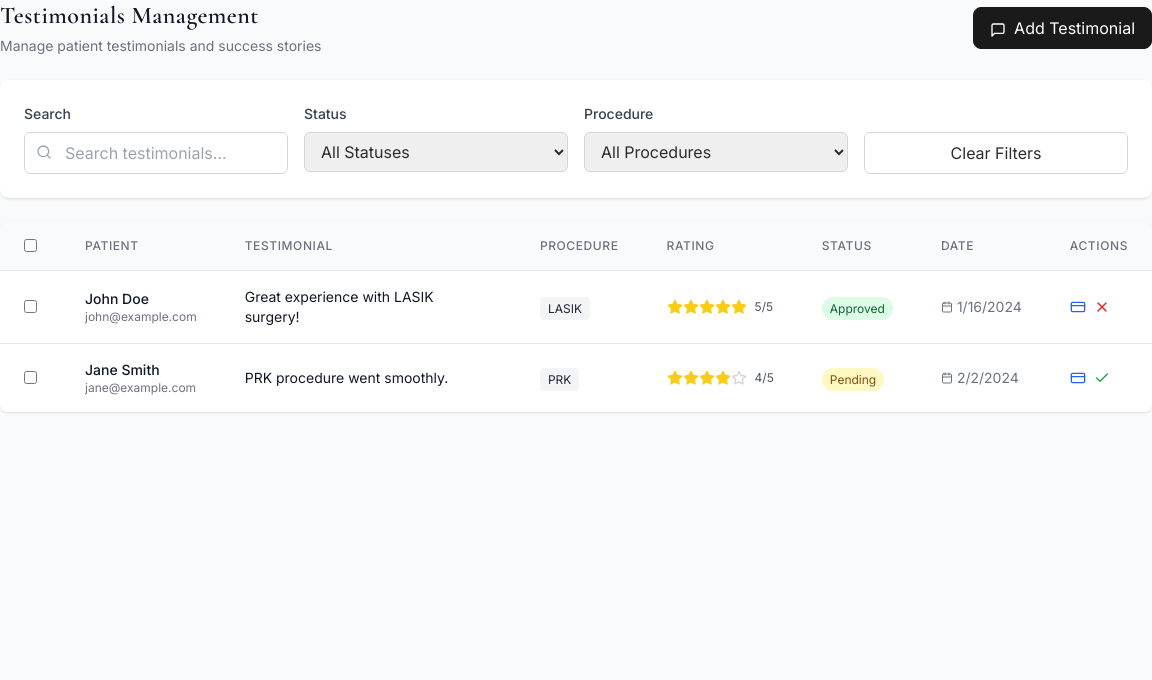
Test: TestimonialsManager › should open edit modal
Check: the text "John Doe" is shown, box x1=85 y1=290 x2=149 y2=307
What coordinates should you click on to do the following:
click the button titled "Edit" in the row of "John Doe"
I would click on:
 (1078, 307)
Its box is x1=1070 y1=299 x2=1086 y2=315.
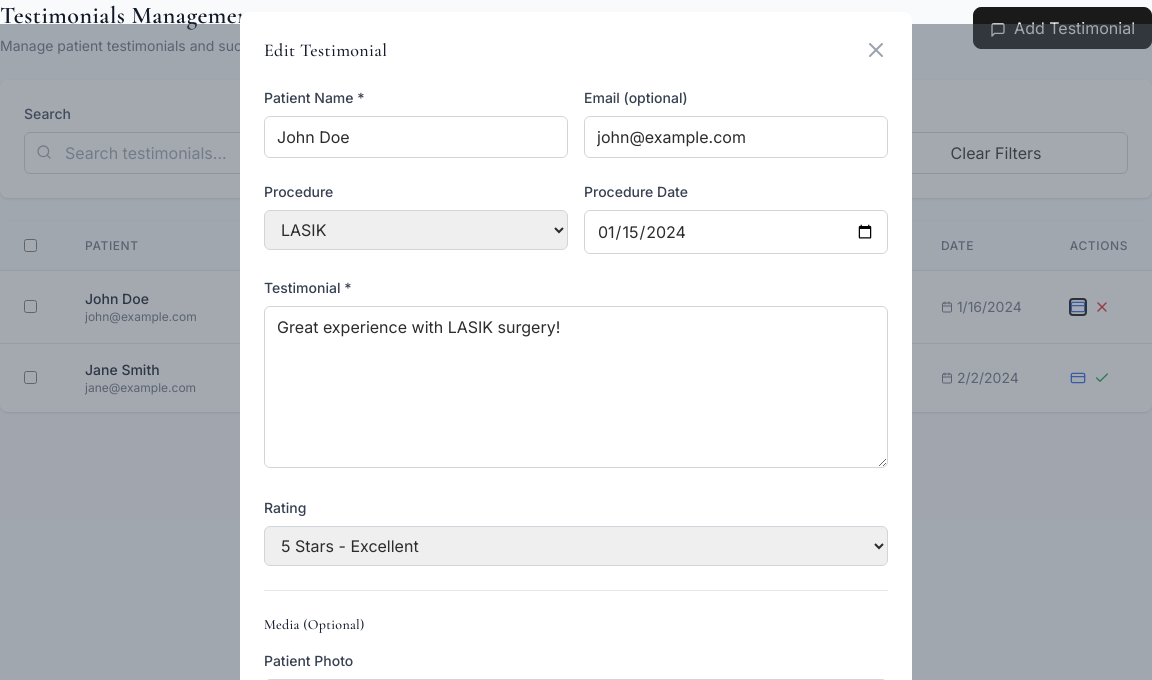
Check: the heading "Edit Testimonial" is shown, box x1=264 y1=36 x2=387 y2=64
